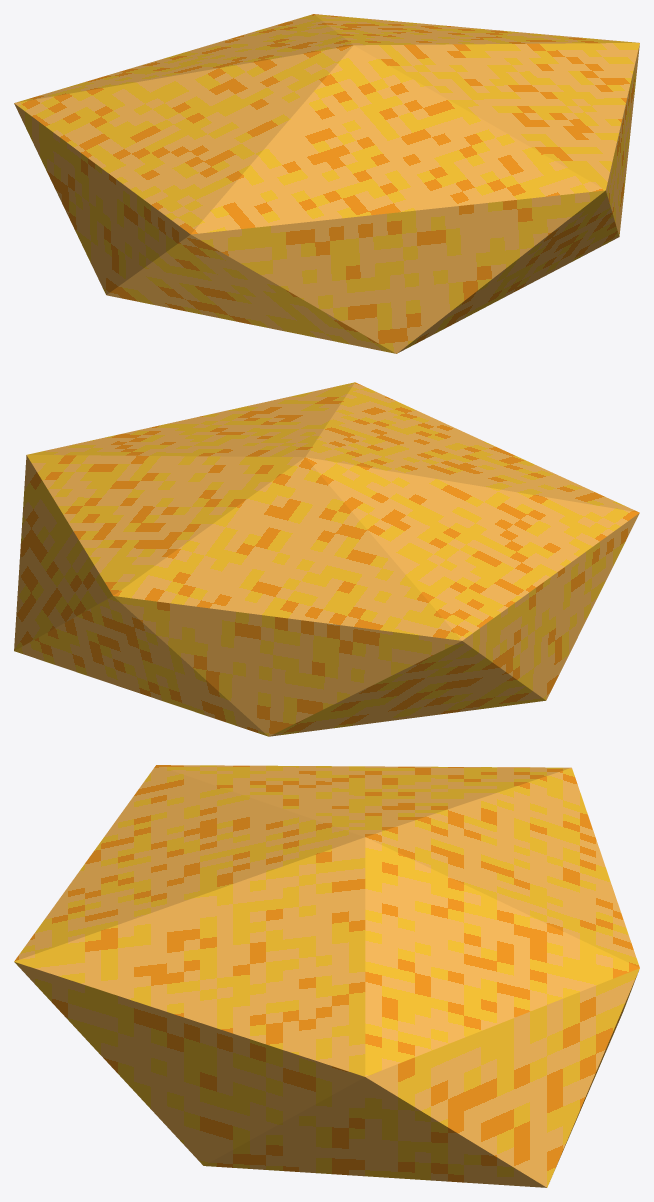
The model's file is r04_duna_media.glb.
The picture shows the model from 3 angles, top to bottom: view 1: azimuth 30°, elevation 25°; view 2: azimuth 150°, elevation 25°; view 3: azimuth 270°, elevation 25°; orthographic projection. The views are drawn at different scales.
Parts seen in each view (by area): view 1: r04_duna_media; view 2: r04_duna_media; view 3: r04_duna_media.
Part boxes in pixels (box(x1,y1,x2,y2)): r04_duna_media: box(14, 14, 639, 353); r04_duna_media: box(14, 382, 639, 736); r04_duna_media: box(14, 765, 639, 1187).
Bounding box in the file's own units: 2.73 × 1.28 × 2.37.
Materials: 1 (1 with a texture image).
